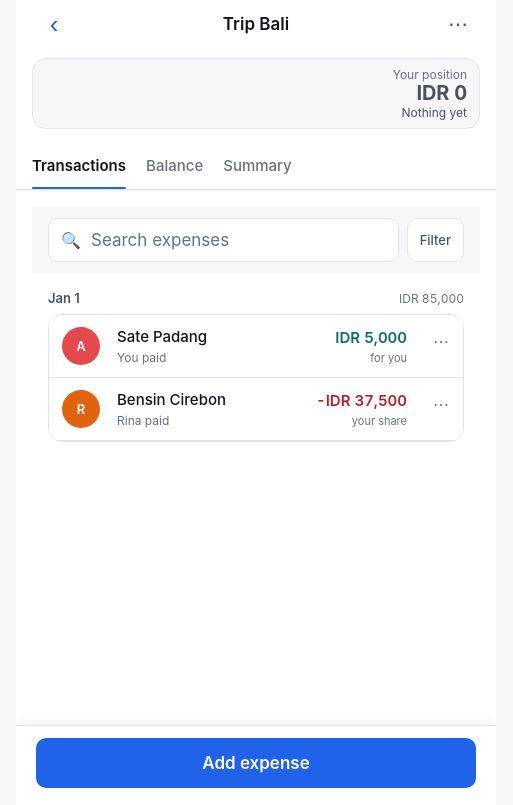
Test: GroupDetailScreen › cuts the list down to matching rows when searching
Expected: the text "Sate Padang" is shown, [117,326,207,346]
In the field labelled "Search expenses": coordinates (237, 240) [89,229,386,251], type "bensin"
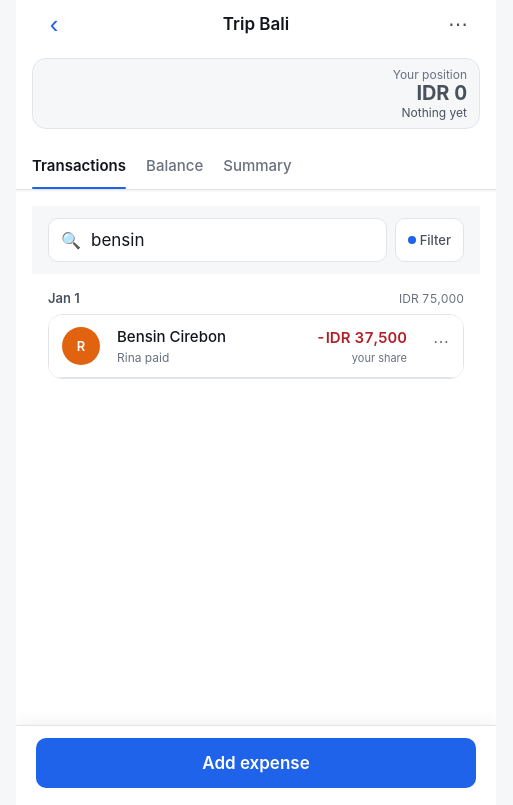
Expected: the text "Bensin Cirebon" is shown, [117,326,226,346]
Now the button "Sate Padang" is gone
